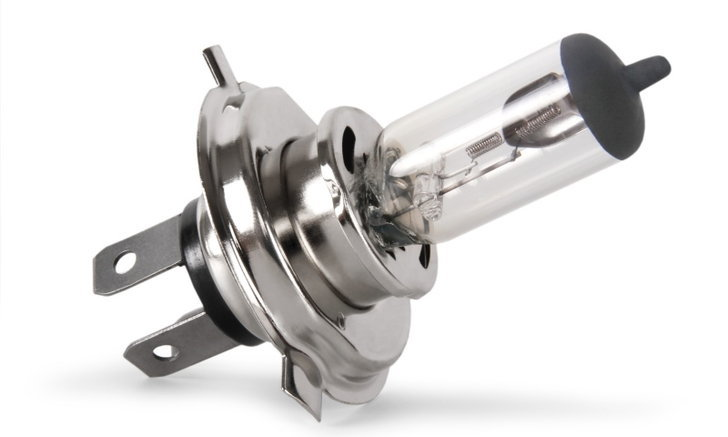Light_bulb: (288, 18, 676, 270)
